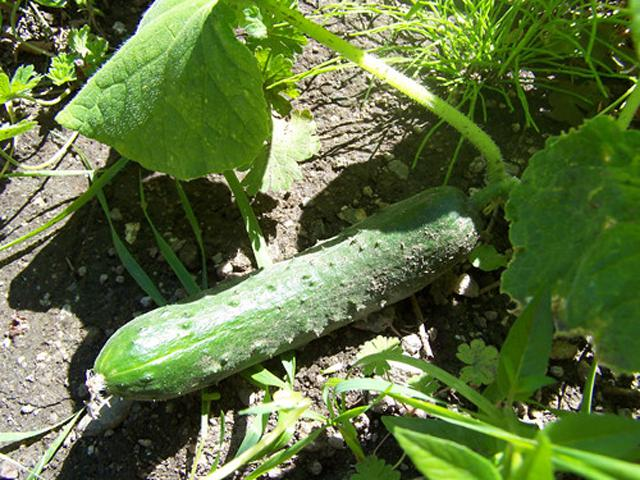cucumber: (87, 184, 485, 402)
